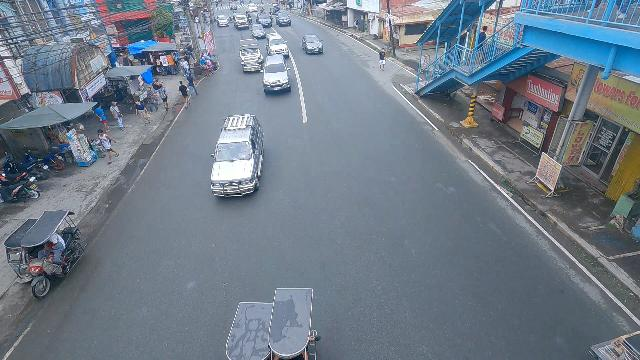car: (211, 113, 265, 199), (261, 55, 292, 95), (239, 38, 263, 74), (265, 33, 291, 58), (300, 34, 324, 55), (255, 13, 272, 28), (276, 12, 292, 27), (251, 24, 266, 39), (216, 15, 229, 28), (247, 3, 258, 13), (229, 2, 238, 10)
jeepney: (232, 13, 248, 29)
